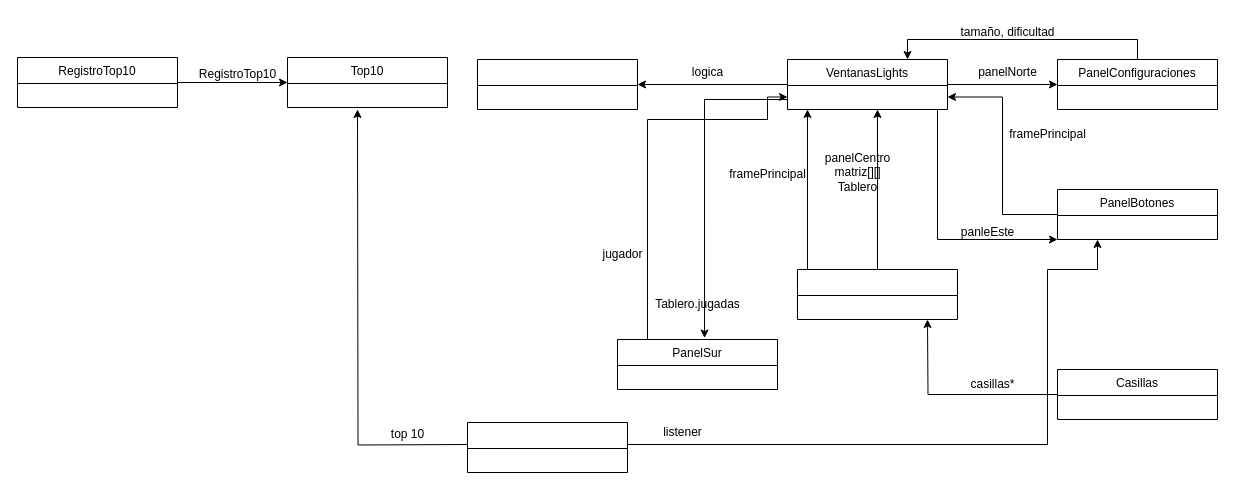
Image size: 1235x490. Some labels were removed from this diagram. The centre of each missing label's shape, as x and y in pixels:
"PanelTablero" belongs at (877,294).
"Tablero" belongs at (557,84).
"VentanaTop10" belongs at (547,447).
